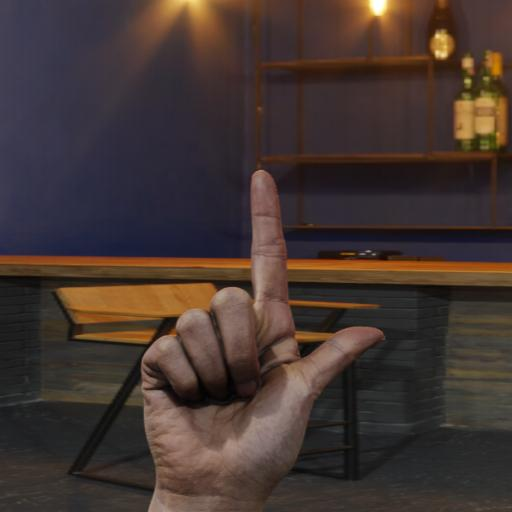L: (85, 109, 419, 512)
